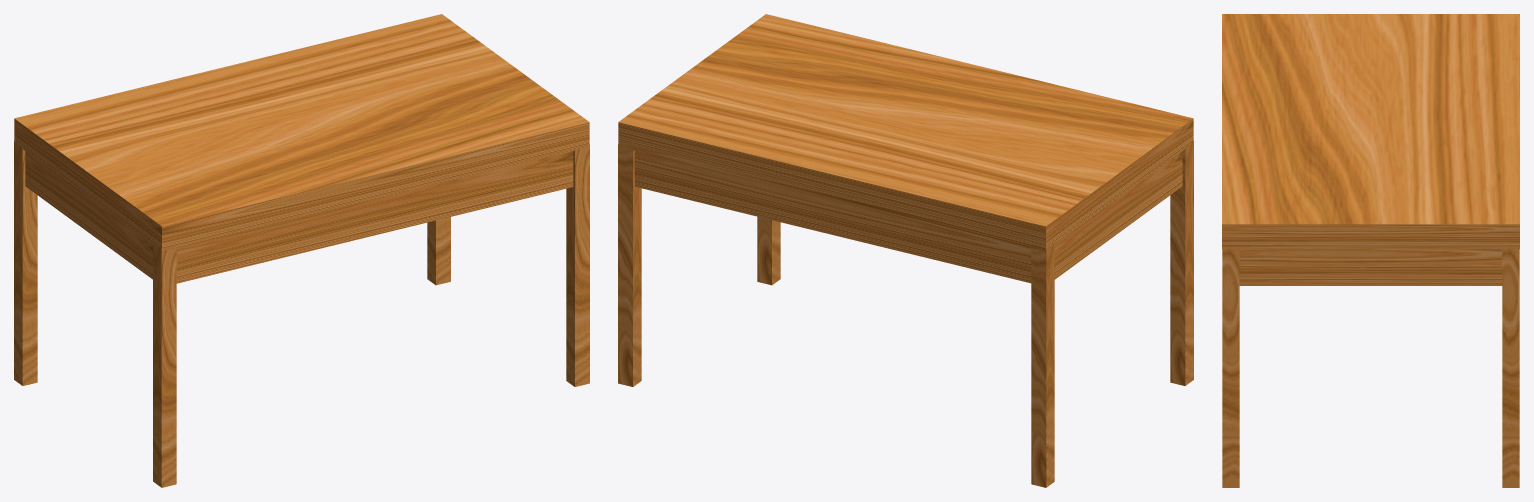
File: MesaRetangularRE1.fbx
3 views of the same model, side by side, from view 1: azimuth 30°, elevation 25°; view 2: azimuth 150°, elevation 25°; view 3: azimuth 270°, elevation 25° (orthographic).
Visible parts, largest first — view 1: pCube1, pCube9, pCube2, pCube5, pCube3, pCube6, pCube4; view 2: pCube1, pCube8, pCube3, pCube4, pCube2, pCube6, pCube5; view 3: pCube1, pCube7, pCube4, pCube5.
Part boxes in pixels (x1,y1,x2,y2): pCube1: [14, 14, 589, 250]; pCube9: [176, 151, 573, 283]; pCube2: [153, 242, 176, 487]; pCube5: [566, 144, 589, 386]; pCube3: [14, 141, 37, 385]; pCube6: [25, 151, 152, 279]; pCube4: [427, 217, 450, 285]; pCube1: [618, 14, 1193, 250]; pCube8: [635, 151, 1031, 283]; pCube3: [1031, 243, 1054, 487]; pCube4: [618, 144, 641, 386]; pCube2: [1170, 141, 1193, 385]; pCube6: [1054, 151, 1182, 279]; pCube5: [757, 216, 780, 285]; pCube1: [1222, 14, 1519, 249]; pCube7: [1239, 249, 1502, 285]; pCube4: [1502, 247, 1519, 487]; pCube5: [1222, 247, 1239, 487].
Size of the model in its own units: 1.37 by 0.8024 by 0.822.
Materials: 1 (1 with a texture image).
